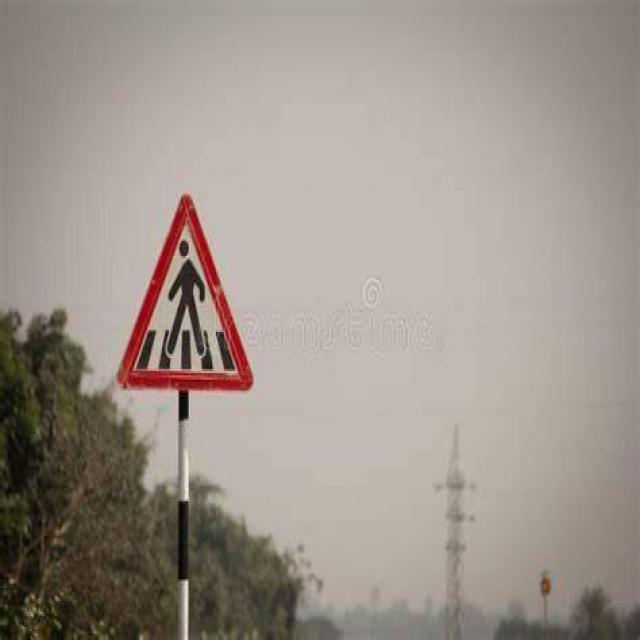Pedestrain_crossing: (116, 194, 258, 386)
